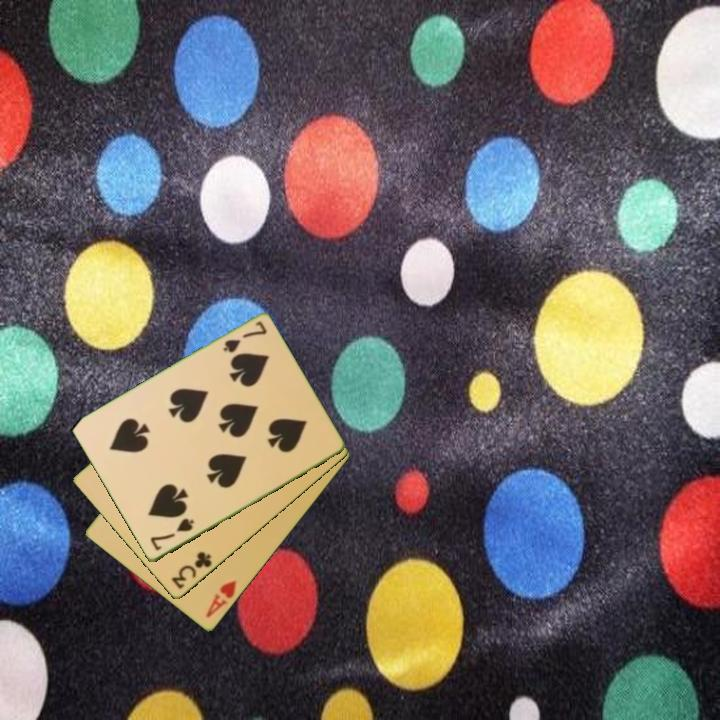3c: (167, 548, 215, 592)
7s: (147, 515, 197, 554), (220, 318, 270, 356)
Ah: (202, 577, 239, 621)
